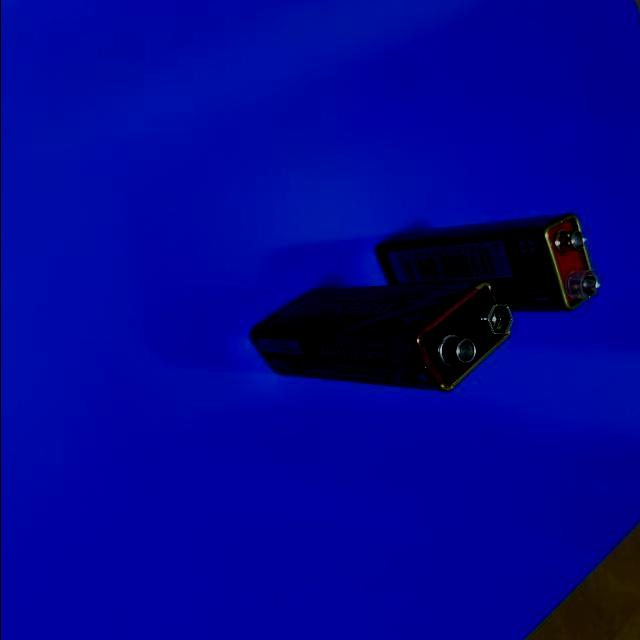9V: (249, 281, 514, 393), (373, 212, 600, 312)
